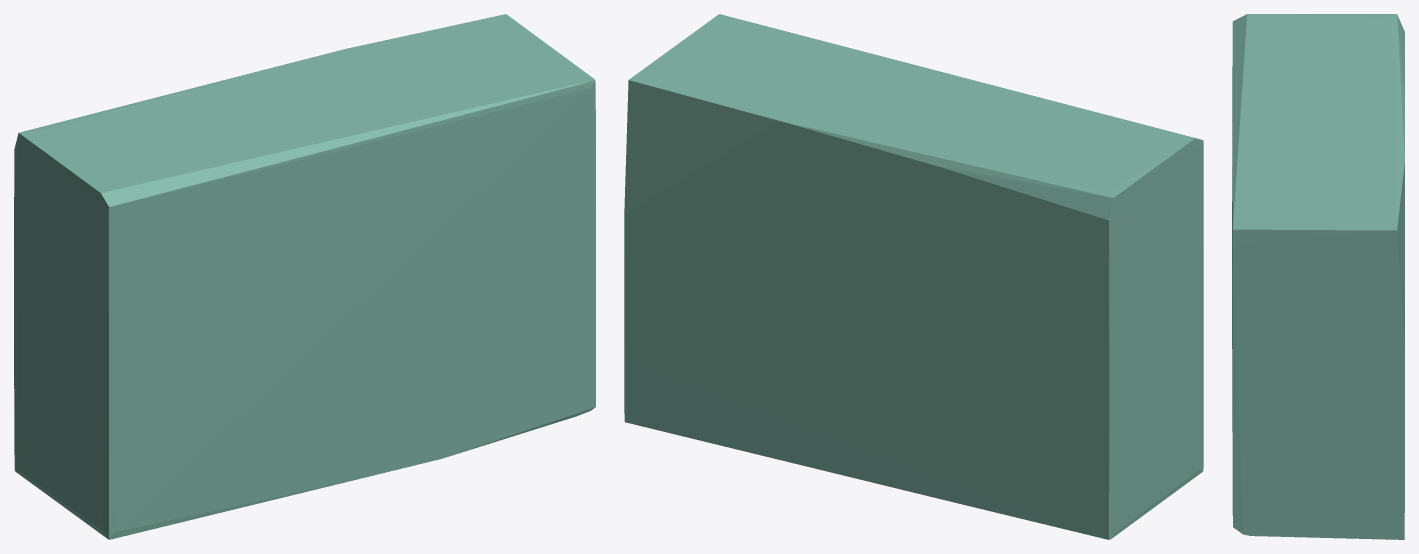
File: crate_plywood_b06.glb
3 views of the same model, side by side, from view 1: azimuth 30°, elevation 25°; view 2: azimuth 150°, elevation 25°; view 3: azimuth 270°, elevation 25° (orthographic). The views are drawn at different scales.
Visible parts, largest first — view 1: geometry_0; view 2: geometry_0; view 3: geometry_0.
Boxes of the visible parts, box(x1,y1,x2,y2) form: geometry_0: box(14, 14, 595, 539); geometry_0: box(624, 14, 1203, 539); geometry_0: box(1232, 14, 1404, 539).
Bounding box in the file's own units: 0.4796 × 0.3211 × 0.1619.
